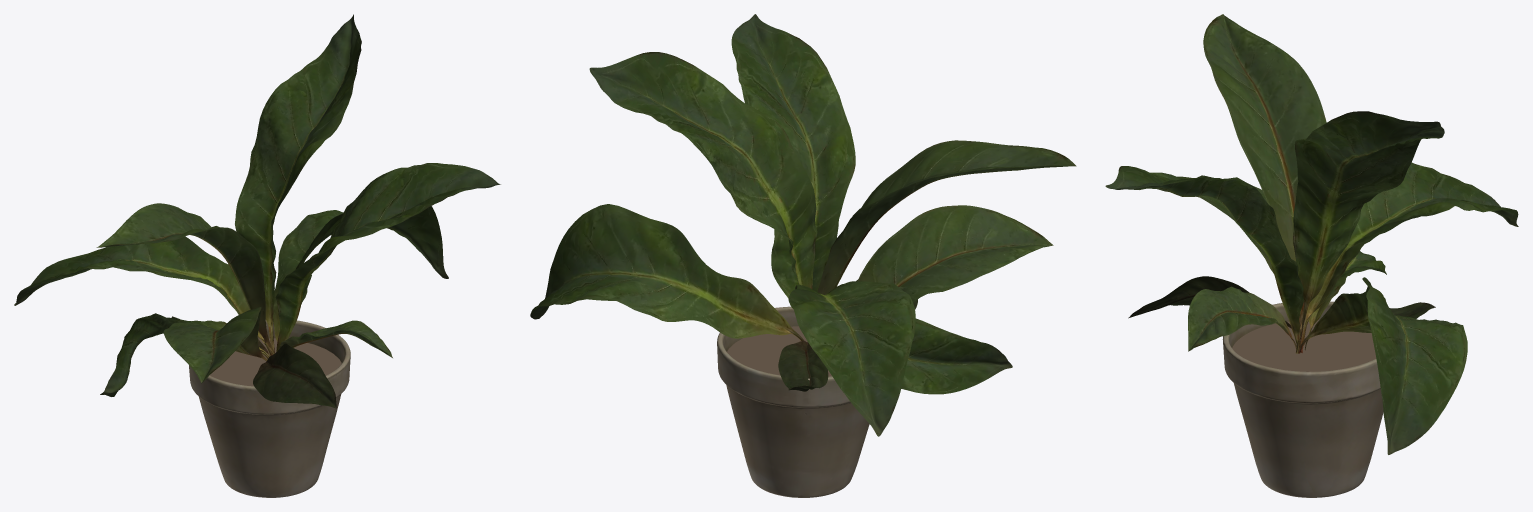
File: ph-anthurium.glb
3 views of the same model, side by side, from view 1: azimuth 30°, elevation 25°; view 2: azimuth 150°, elevation 25°; view 3: azimuth 270°, elevation 25° (orthographic). The views are drawn at different scales.
Parts seen in each view (by area): view 1: anthurium_botany_01_b, Cole_Hardware_Flower_Pot_1025, soil; view 2: anthurium_botany_01_b, Cole_Hardware_Flower_Pot_1025, soil; view 3: anthurium_botany_01_b, Cole_Hardware_Flower_Pot_1025, soil.
Boxes of the visible parts, bbox=[...] form: anthurium_botany_01_b: bbox=[14, 14, 500, 408]; Cole_Hardware_Flower_Pot_1025: bbox=[189, 320, 350, 497]; soil: bbox=[210, 338, 341, 386]; anthurium_botany_01_b: bbox=[530, 14, 1076, 436]; Cole_Hardware_Flower_Pot_1025: bbox=[717, 306, 869, 497]; soil: bbox=[727, 326, 831, 376]; anthurium_botany_01_b: bbox=[1105, 14, 1518, 454]; Cole_Hardware_Flower_Pot_1025: bbox=[1222, 301, 1383, 497]; soil: bbox=[1232, 320, 1376, 371].
Size of the model in its own units: 0.7567 by 0.6586 by 0.5717.
Materials: 3 (2 with a texture image).
